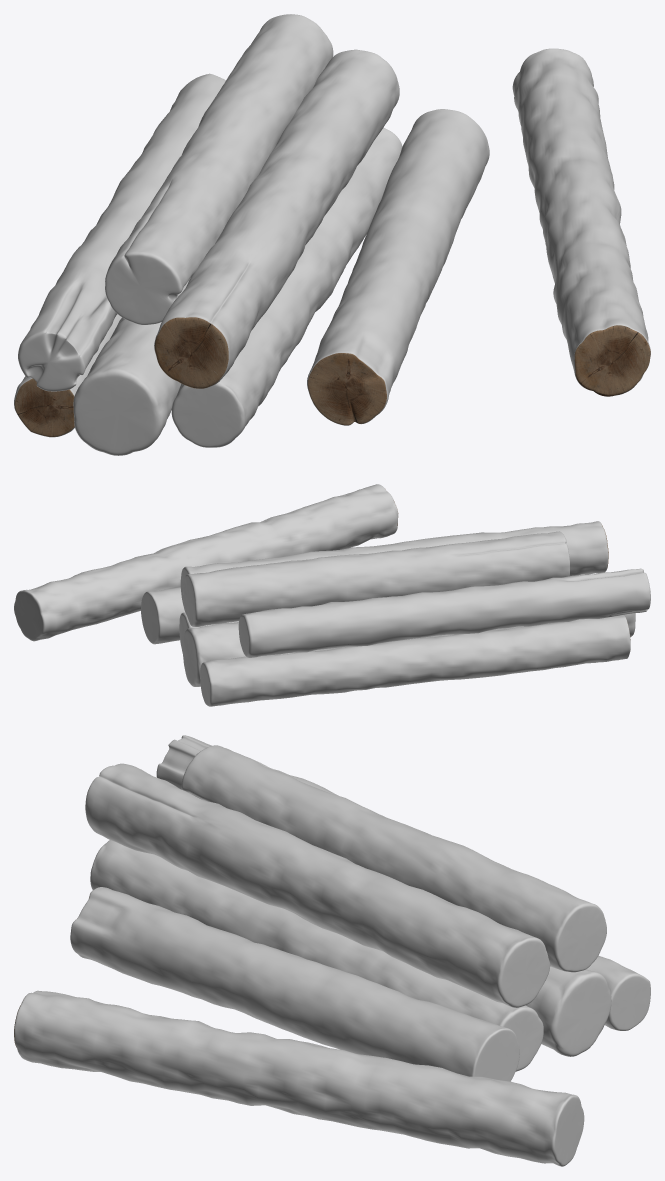
File: PileofLogs_001.FBX
The picture shows the model from 3 angles, top to bottom: view 1: azimuth 30°, elevation 25°; view 2: azimuth 150°, elevation 25°; view 3: azimuth 270°, elevation 25°; orthographic projection. The views are drawn at different scales.
Parts seen in each view (by area): view 1: Cylinder010, Cylinder015, Cylinder014, Cylinder013, Cylinder012, Cylinder008, Cylinder009, Cylinder011; view 2: Cylinder011, Cylinder008, Cylinder013, Cylinder015, Cylinder010, Cylinder009, Cylinder014; view 3: Cylinder015, Cylinder010, Cylinder014, Cylinder013, Cylinder012, Cylinder009, Cylinder011, Cylinder008.
Part boxes in pixels (x1,y1,x2,y2): Cylinder010: [154, 49, 399, 388]; Cylinder015: [512, 48, 650, 396]; Cylinder014: [307, 109, 489, 425]; Cylinder013: [105, 14, 333, 324]; Cylinder012: [171, 127, 402, 447]; Cylinder008: [18, 73, 225, 391]; Cylinder009: [73, 317, 181, 455]; Cylinder011: [14, 314, 121, 437]; Cylinder011: [200, 615, 630, 706]; Cylinder008: [238, 568, 650, 657]; Cylinder013: [183, 531, 569, 626]; Cylinder015: [14, 484, 398, 641]; Cylinder010: [180, 521, 608, 614]; Cylinder009: [182, 613, 635, 686]; Cylinder014: [141, 587, 185, 644]; Cylinder015: [14, 990, 584, 1166]; Cylinder010: [85, 763, 550, 1007]; Cylinder014: [70, 887, 519, 1081]; Cylinder013: [181, 745, 606, 972]; Cylinder012: [90, 840, 543, 1071]; Cylinder009: [526, 966, 611, 1056]; Cylinder011: [586, 955, 650, 1030]; Cylinder008: [156, 735, 384, 816].
Bounding box in the file's own units: 215 × 45.66 × 171.
